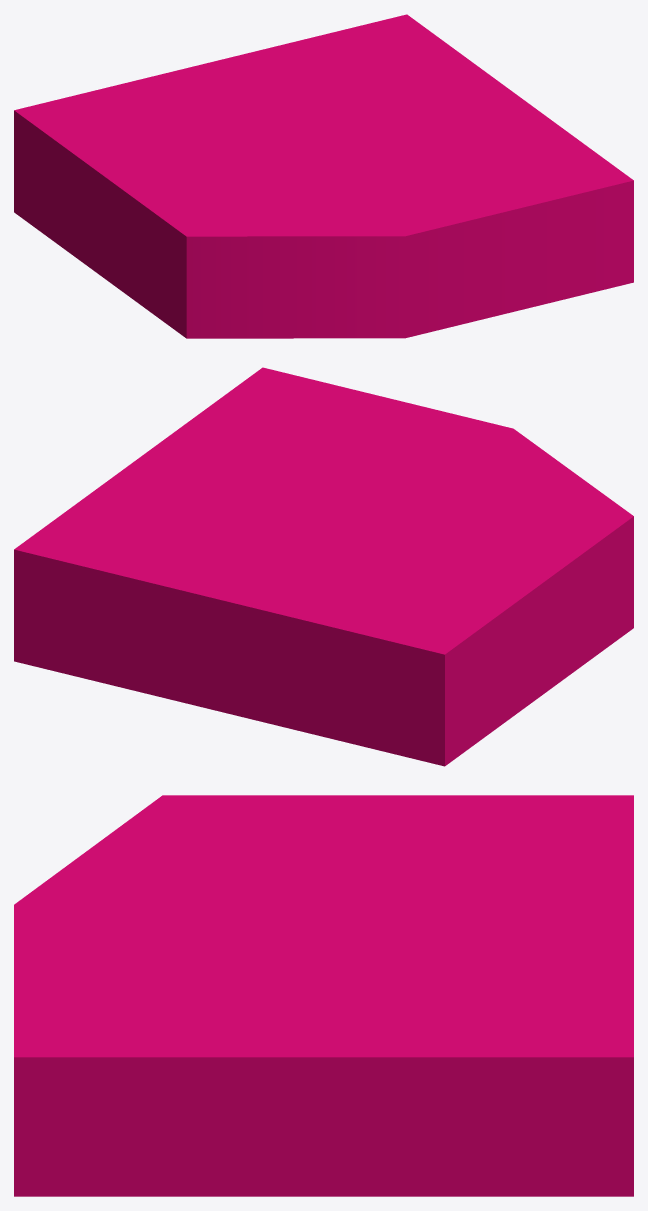
File: Stone_Wall_03B.fbx
The picture shows the model from 3 angles, top to bottom: view 1: azimuth 30°, elevation 25°; view 2: azimuth 150°, elevation 25°; view 3: azimuth 270°, elevation 25°; orthographic projection. The views are drawn at different scales.
Visible parts, largest first — view 1: Stone_Wall_03B; view 2: Stone_Wall_03B; view 3: Stone_Wall_03B.
Part boxes in pixels (x1=…): Stone_Wall_03B: x1=14, y1=14, x2=633, y2=338; Stone_Wall_03B: x1=14, y1=367, x2=633, y2=766; Stone_Wall_03B: x1=14, y1=795, x2=633, y2=1196.
Bounding box in the file's own units: 32.24 × 8 × 32.24.
